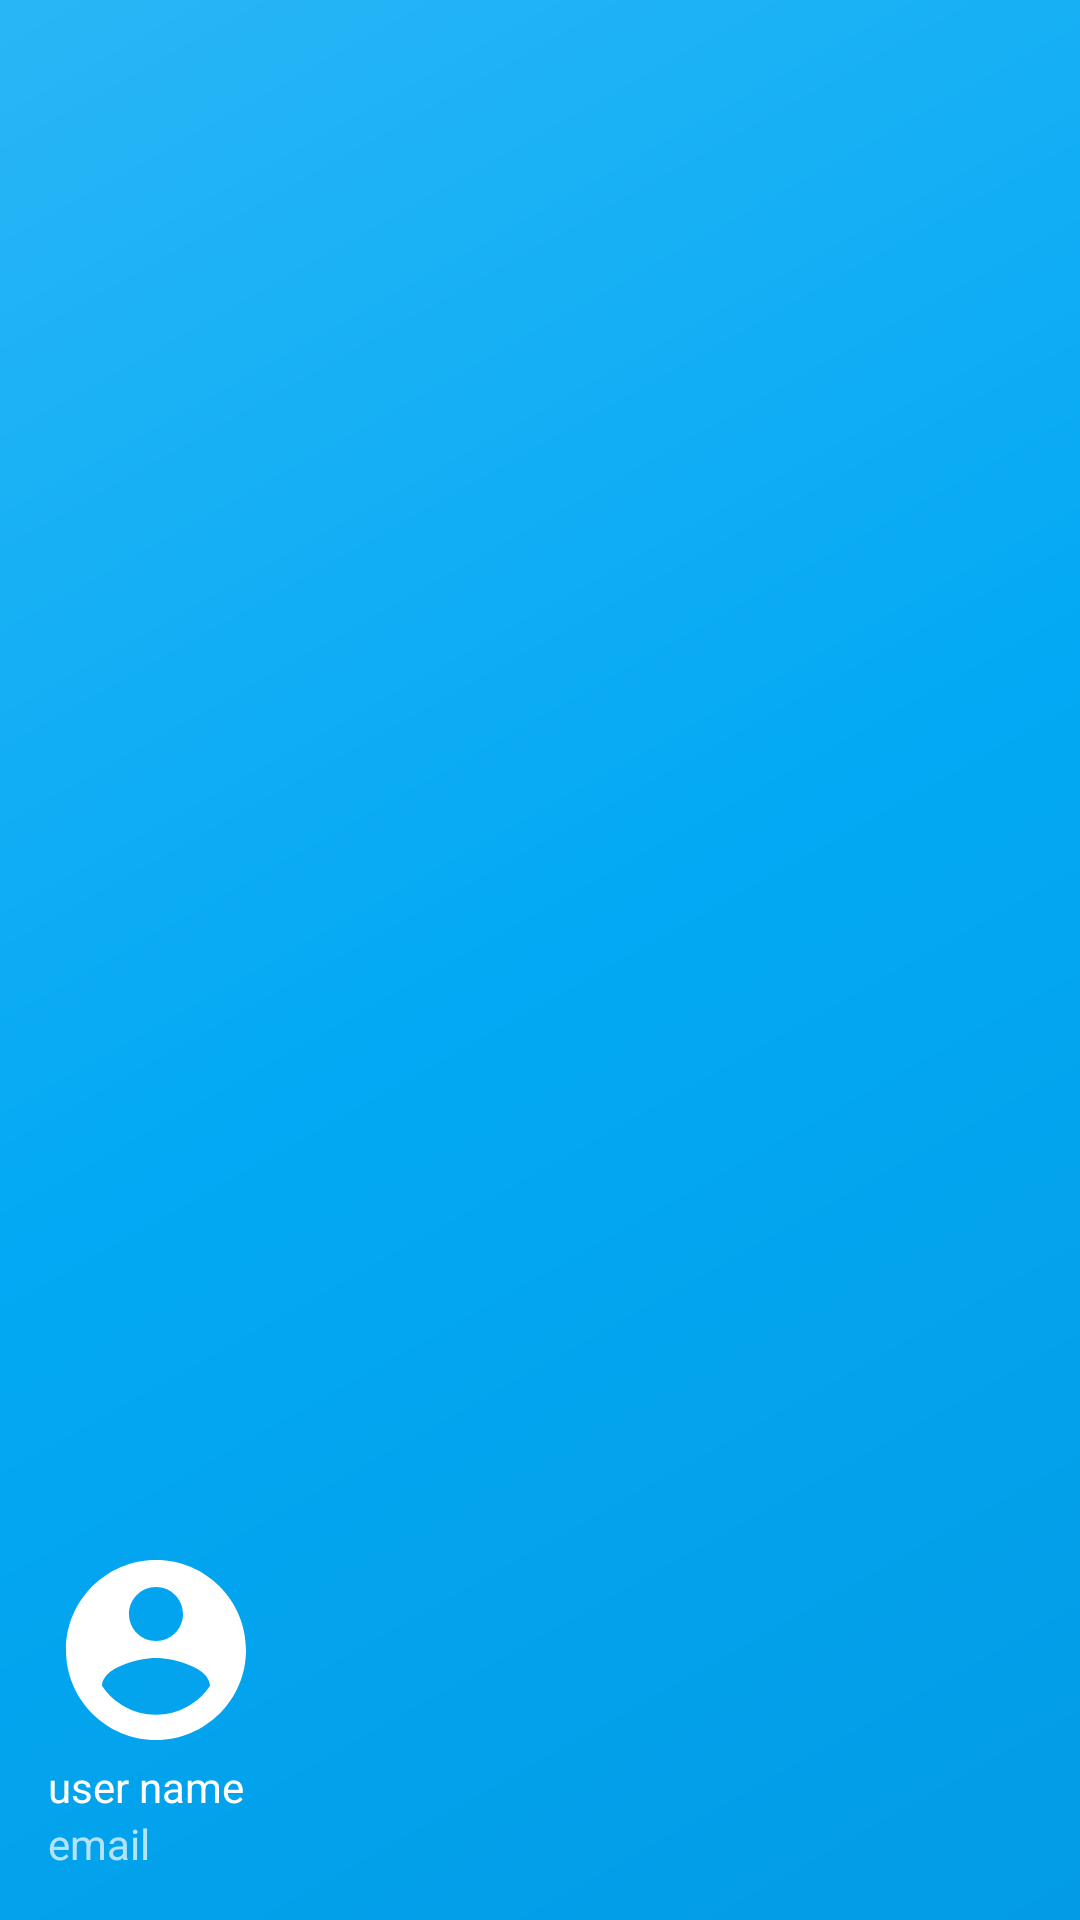

Named icons in this screenshot (1080 x 1920) and their centers, [x,y]:
account circle: [155,1650]
